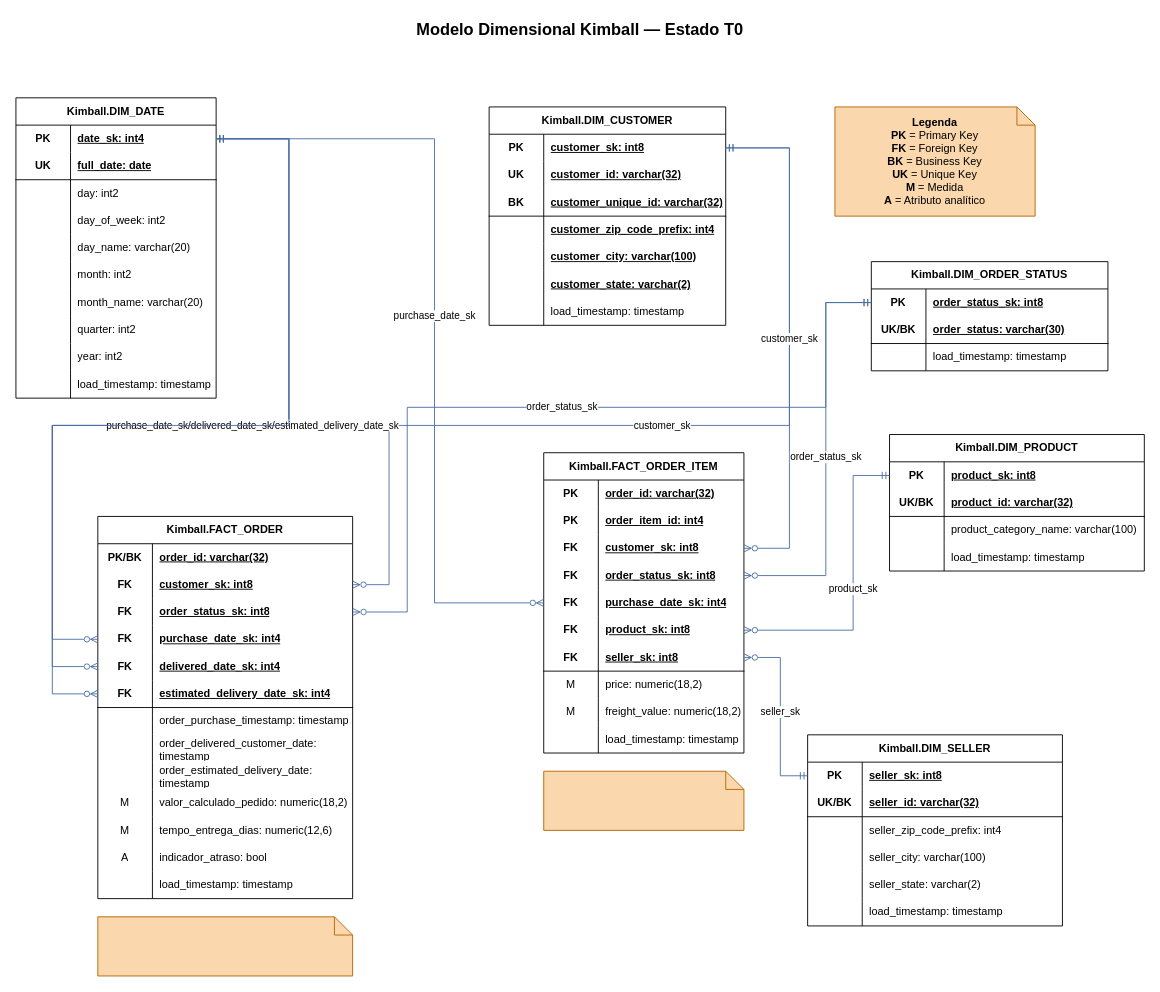
Some shapes in this 1160 by 992 pixel diagram are drawn without their labels. Each missing label, with the centre of its shape:
Grão da FACT_ORDER 1 linha por order_id .: the point at 225,946
Grão da FACT_ORDER_ITEM 1 linha por (order_id, order_item_id) .: the point at 643,800
